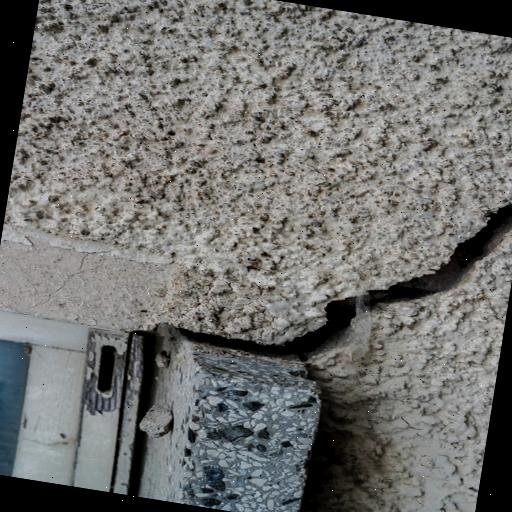spalling: (183, 190, 512, 364)
